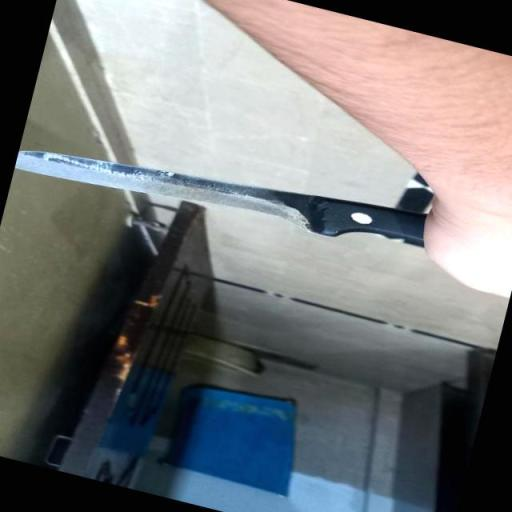knife: (13, 105, 498, 291)
